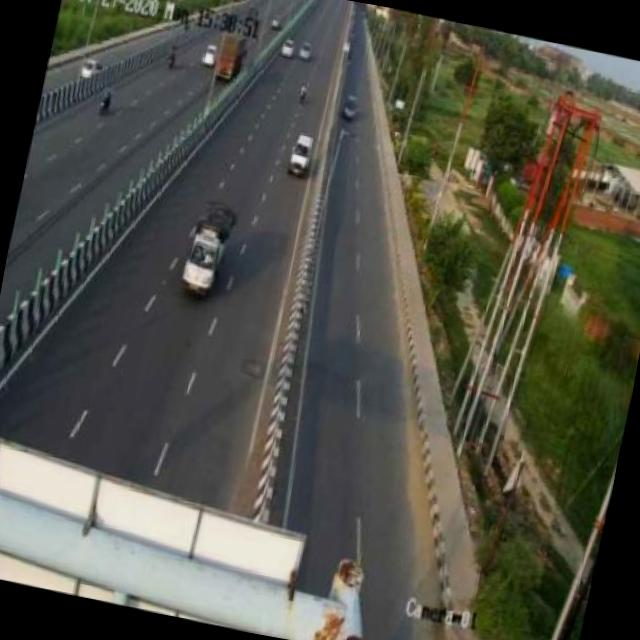car: (178, 195, 240, 306), (281, 126, 321, 184), (338, 87, 365, 130), (274, 36, 299, 64), (296, 37, 314, 64)
